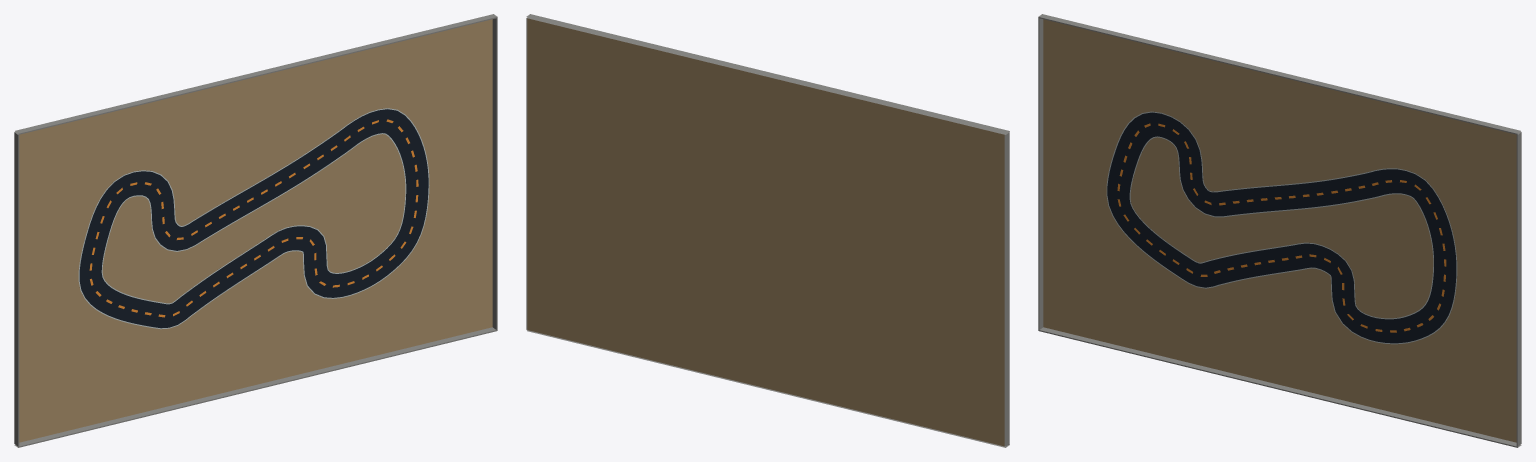
Rendered from track.obj.
The picture shows the model from 3 angles, left to right: view 1: azimuth 30°, elevation 25°; view 2: azimuth 150°, elevation 25°; view 3: azimuth 330°, elevation 25°; orthographic projection.
Bounding box in the file's own units: 21.2 × 13.27 × 0.3.
Materials: 5 (5 with a texture image).
